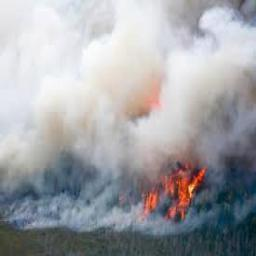Heavy smoke: (0, 0, 256, 236)
Large fire: (90, 56, 241, 235)
